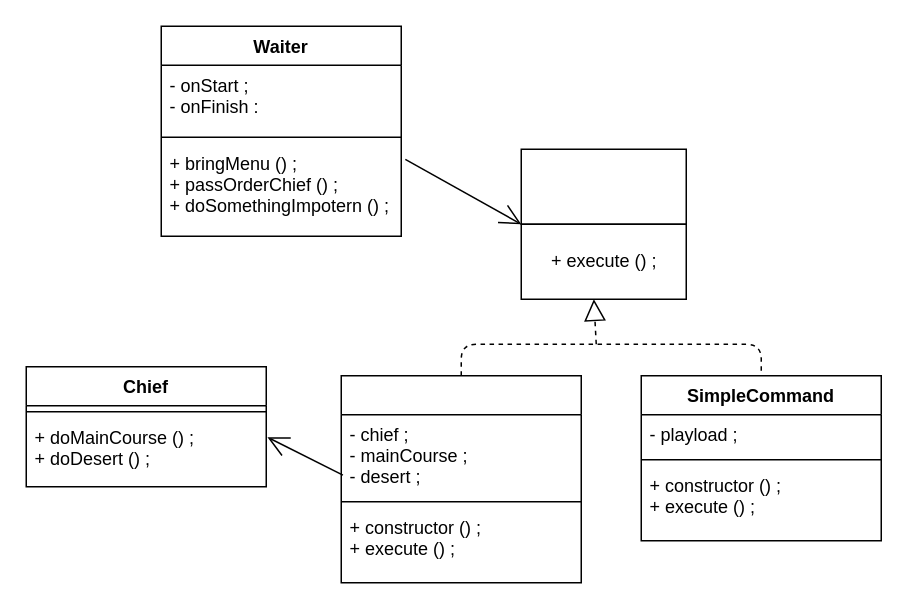
Some shapes in this 908 by 614 pixel diagram are drawn without their labels. The box of each missing label's shape, as (x1, y1, x2, y2) in pixels:
ComplexCommand: (340, 374, 581, 583)
«interface» Command: (520, 148, 686, 224)
